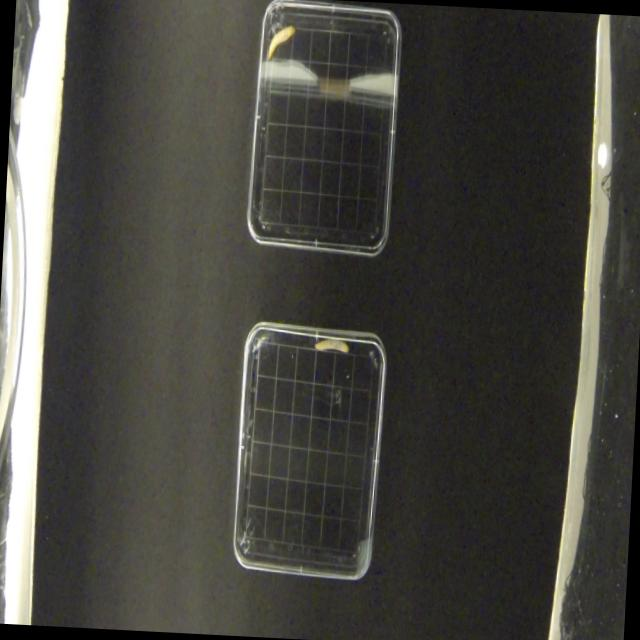larva: (266, 24, 296, 64), (316, 338, 349, 352)
